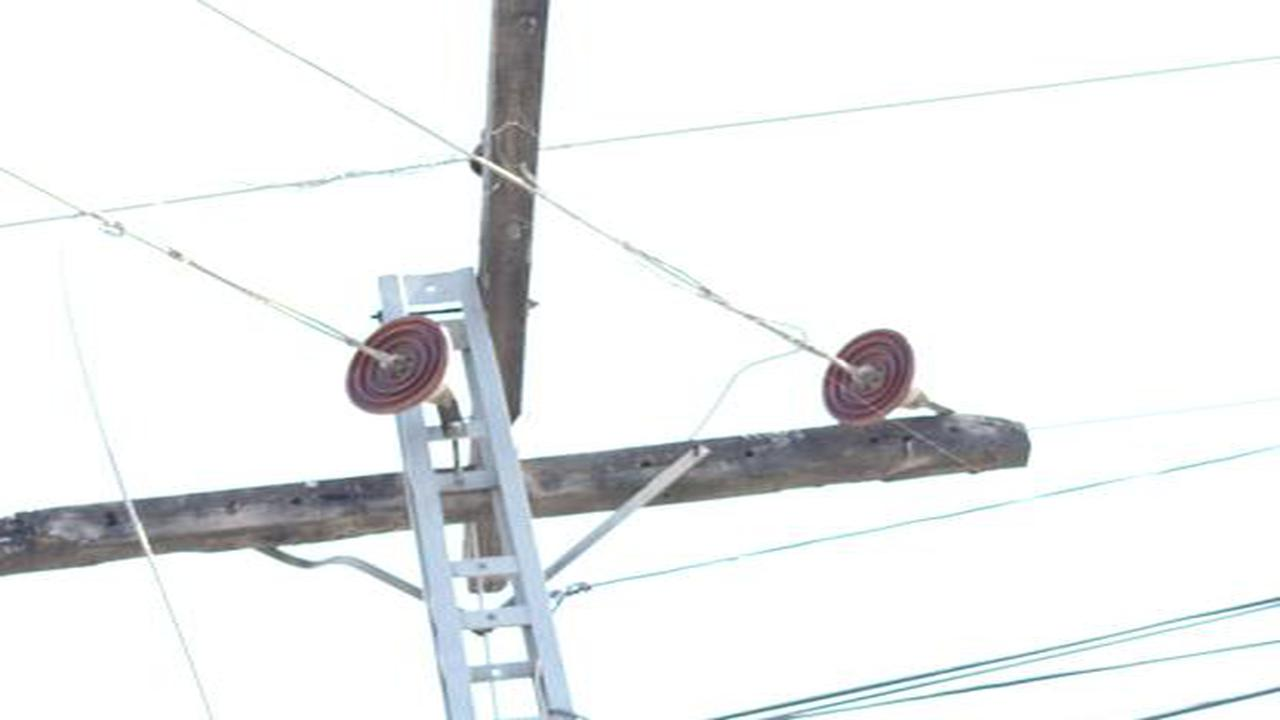insulator_disc: (345, 315, 450, 417), (819, 324, 918, 425)
